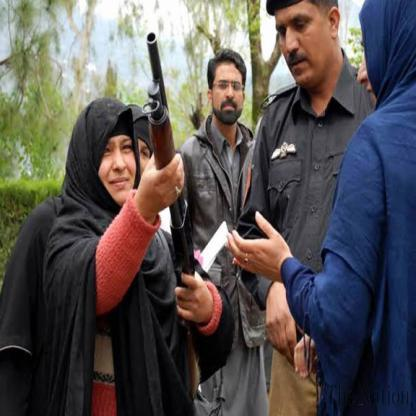Gun: (140, 30, 202, 400)
